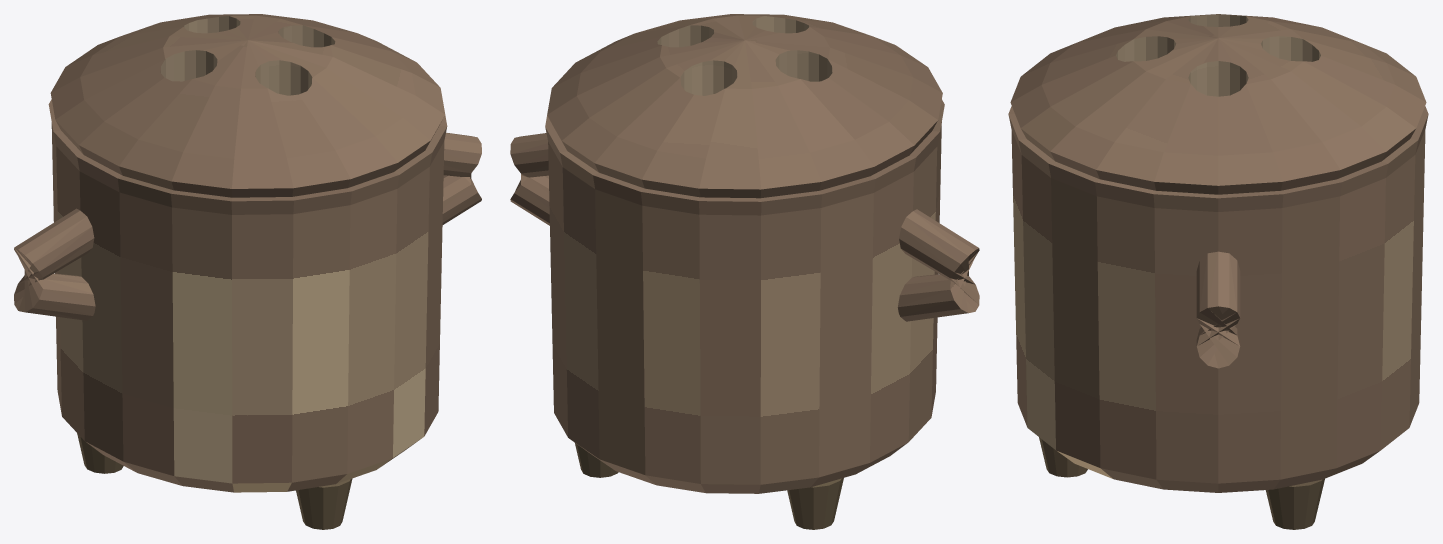
Rendered from antique-kiyomizu-incense.glb.
The picture shows the model from 3 angles, left to right: view 1: azimuth 30°, elevation 25°; view 2: azimuth 150°, elevation 25°; view 3: azimuth 270°, elevation 25°; orthographic projection.
Visible parts, largest first — view 1: antique-kiyomizu-incense/vessel-2, antique-kiyomizu-incense/lid-4, antique-kiyomizu-incense/lid-3, antique-kiyomizu-incense/ear--1, antique-kiyomizu-incense/lid-5, antique-kiyomizu-incense/vessel-3, antique-kiyomizu-incense/lid-0, antique-kiyomizu-incense/lid-2, antique-kiyomizu-incense/ear-1, antique-kiyomizu-incense/vessel-1, antique-kiyomizu-incense/vessel-4, antique-kiyomizu-incense/foot-0 (+1 smaller); view 2: antique-kiyomizu-incense/vessel-2, antique-kiyomizu-incense/lid-4, antique-kiyomizu-incense/lid-3, antique-kiyomizu-incense/ear--1, antique-kiyomizu-incense/lid-5, antique-kiyomizu-incense/vessel-3, antique-kiyomizu-incense/lid-0, antique-kiyomizu-incense/lid-2, antique-kiyomizu-incense/ear-1, antique-kiyomizu-incense/vessel-1, antique-kiyomizu-incense/vessel-4, antique-kiyomizu-incense/foot-2 (+1 smaller); view 3: antique-kiyomizu-incense/vessel-2, antique-kiyomizu-incense/lid-4, antique-kiyomizu-incense/lid-3, antique-kiyomizu-incense/lid-5, antique-kiyomizu-incense/vessel-3, antique-kiyomizu-incense/ear-1, antique-kiyomizu-incense/lid-0, antique-kiyomizu-incense/lid-2, antique-kiyomizu-incense/vessel-1, antique-kiyomizu-incense/vessel-4, antique-kiyomizu-incense/foot-1, antique-kiyomizu-incense/foot-0.
Boxes of the visible parts, x1=… form: antique-kiyomizu-incense/vessel-2: x1=51, y1=122, x2=444, y2=483; antique-kiyomizu-incense/lid-4: x1=80, y1=14, x2=415, y2=158; antique-kiyomizu-incense/lid-3: x1=50, y1=33, x2=445, y2=188; antique-kiyomizu-incense/ear--1: x1=14, y1=208, x2=95, y2=320; antique-kiyomizu-incense/lid-5: x1=163, y1=15, x2=332, y2=88; antique-kiyomizu-incense/vessel-3: x1=53, y1=127, x2=446, y2=214; antique-kiyomizu-incense/lid-0: x1=160, y1=16, x2=335, y2=95; antique-kiyomizu-incense/lid-2: x1=56, y1=121, x2=441, y2=197; antique-kiyomizu-incense/ear-1: x1=442, y1=132, x2=481, y2=224; antique-kiyomizu-incense/vessel-1: x1=86, y1=440, x2=418, y2=492; antique-kiyomizu-incense/vessel-4: x1=48, y1=99, x2=447, y2=201; antique-kiyomizu-incense/foot-0: x1=296, y1=478, x2=352, y2=529; antique-kiyomizu-incense/vessel-2: x1=548, y1=122, x2=941, y2=484; antique-kiyomizu-incense/lid-4: x1=577, y1=14, x2=912, y2=159; antique-kiyomizu-incense/lid-3: x1=547, y1=34, x2=942, y2=189; antique-kiyomizu-incense/ear--1: x1=897, y1=209, x2=979, y2=321; antique-kiyomizu-incense/lid-5: x1=660, y1=15, x2=829, y2=88; antique-kiyomizu-incense/vessel-3: x1=545, y1=127, x2=939, y2=215; antique-kiyomizu-incense/lid-0: x1=657, y1=16, x2=832, y2=95; antique-kiyomizu-incense/lid-2: x1=550, y1=121, x2=937, y2=198; antique-kiyomizu-incense/ear-1: x1=510, y1=133, x2=549, y2=225; antique-kiyomizu-incense/vessel-1: x1=571, y1=440, x2=907, y2=493; antique-kiyomizu-incense/vessel-4: x1=545, y1=99, x2=944, y2=201; antique-kiyomizu-incense/foot-2: x1=787, y1=478, x2=843, y2=529; antique-kiyomizu-incense/vessel-2: x1=1011, y1=130, x2=1425, y2=483; antique-kiyomizu-incense/lid-4: x1=1041, y1=14, x2=1395, y2=155; antique-kiyomizu-incense/lid-3: x1=1010, y1=43, x2=1426, y2=185; antique-kiyomizu-incense/lid-5: x1=1133, y1=16, x2=1303, y2=84; antique-kiyomizu-incense/vessel-3: x1=1008, y1=115, x2=1428, y2=211; antique-kiyomizu-incense/ear-1: x1=1196, y1=251, x2=1240, y2=368; antique-kiyomizu-incense/lid-0: x1=1116, y1=14, x2=1320, y2=96; antique-kiyomizu-incense/lid-2: x1=1021, y1=129, x2=1415, y2=194; antique-kiyomizu-incense/vessel-1: x1=1057, y1=451, x2=1379, y2=492; antique-kiyomizu-incense/vessel-4: x1=1008, y1=106, x2=1428, y2=198; antique-kiyomizu-incense/foot-1: x1=1265, y1=479, x2=1324, y2=529; antique-kiyomizu-incense/foot-0: x1=1039, y1=437, x2=1087, y2=477.
Size of the model in its own units: 0.4375 by 0.3879 by 0.3428.
Materials: 3 (3 with a texture image).
